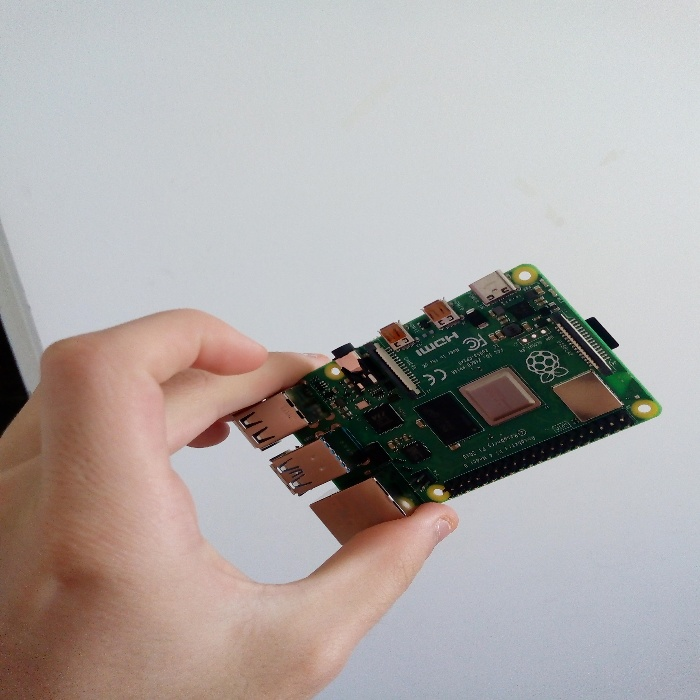raspberry: (207, 261, 666, 542)
